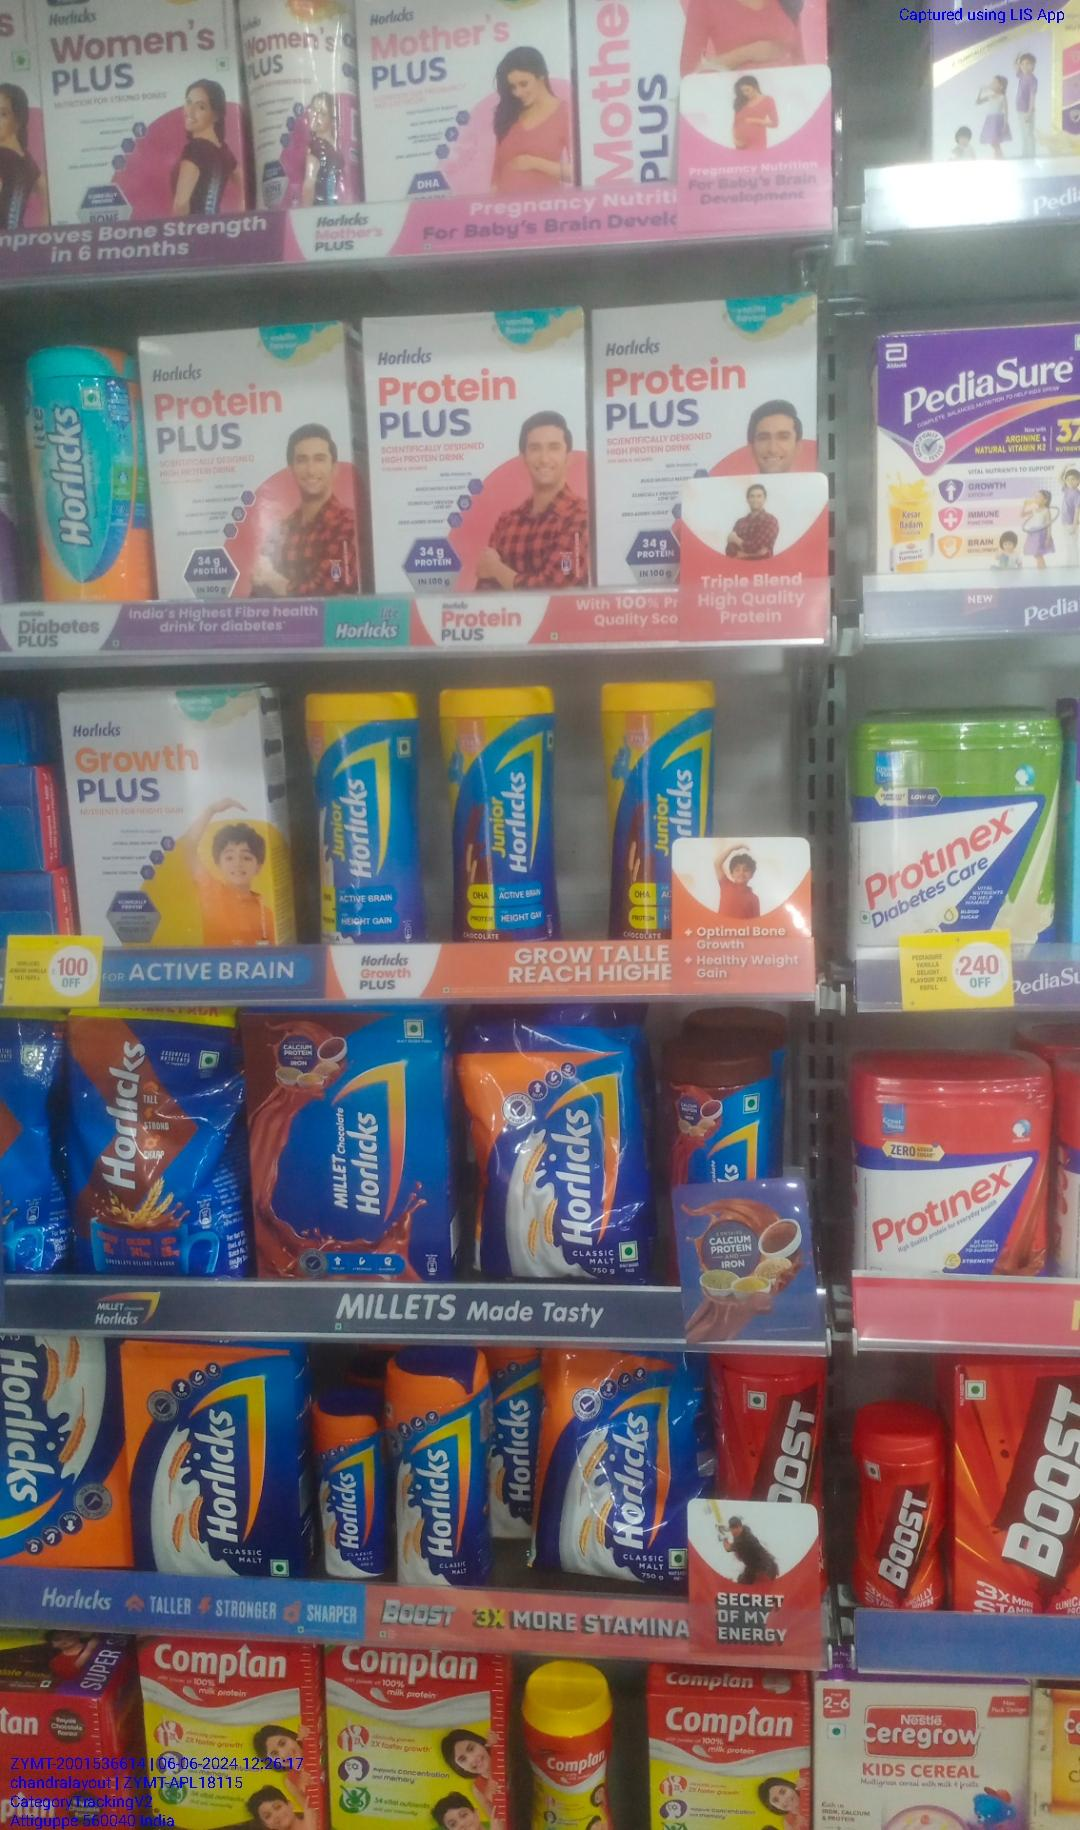COMPLAN_CHOCOLATE_200_GMS_JAR: (523, 1683, 629, 1830)
HORLICKS_JUNIOR_VANILLA_500_GM_JAR: (312, 682, 420, 948)
HORLICK_CLASSIC_MALT_200_G_JAR: (318, 1408, 390, 1583)
HORLICK_CLASSIC_MALT_500_G_JAR: (392, 1362, 495, 1587)
HORLICK_CLASSIC_MALT_500_G_PACK: (130, 1335, 297, 1576)
PROTINEX_CHOCOLATE_400_G_JAR: (849, 1058, 1061, 1284)
